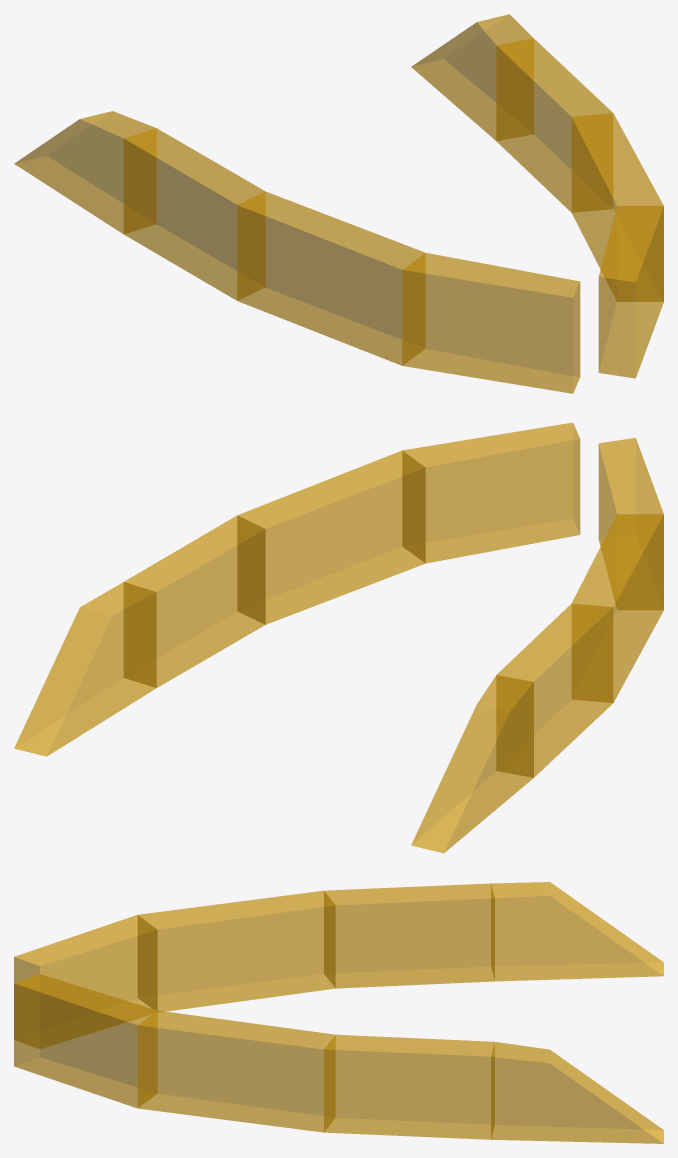
File: SM_Veh_Ship_M_Front_03_Collision.fbx
3 views of the same model, one above another, from view 1: azimuth 30°, elevation 25°; view 2: azimuth 150°, elevation 25°; view 3: azimuth 270°, elevation 25° (orthographic). The views are drawn at different scales.
Parts seen in each view (by area): view 1: SM_Veh_Ship_M_Front_03_Collision; view 2: SM_Veh_Ship_M_Front_03_Collision; view 3: SM_Veh_Ship_M_Front_03_Collision.
Boxes of the visible parts, x1,y1,x2,y2 form: SM_Veh_Ship_M_Front_03_Collision: (14,14,663,393); SM_Veh_Ship_M_Front_03_Collision: (14,422,663,853); SM_Veh_Ship_M_Front_03_Collision: (14,882,663,1143).
Bounding box in the file's own units: 699 × 149 × 1057.
